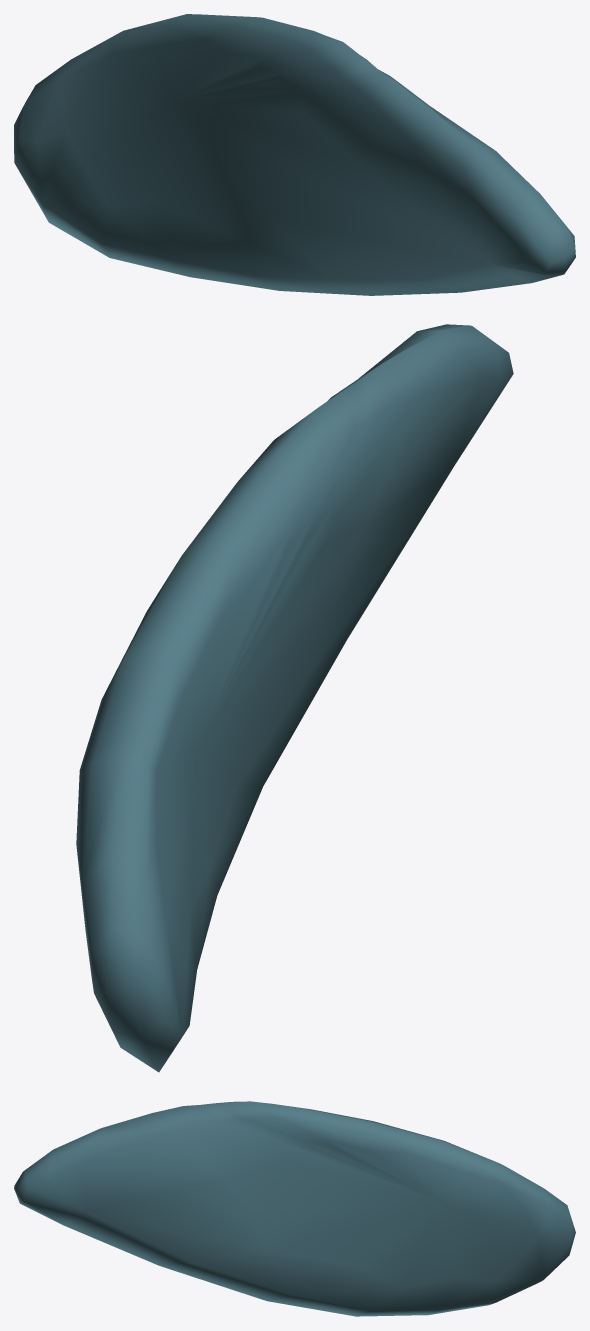
The model's file is Flexor_hallucis_brevis_medial_cuneiform_left.glb.
3 views of the same model, one above another, from view 1: azimuth 30°, elevation 25°; view 2: azimuth 150°, elevation 25°; view 3: azimuth 270°, elevation 25° (orthographic). The views are drawn at different scales.
Visible parts, largest first — view 1: Lateral_head_of_flexor_hallucis_brevis_on_medial_cuneiform.l; view 2: Lateral_head_of_flexor_hallucis_brevis_on_medial_cuneiform.l; view 3: Lateral_head_of_flexor_hallucis_brevis_on_medial_cuneiform.l.
Part boxes in pixels (x1,y1,x2,y2): Lateral_head_of_flexor_hallucis_brevis_on_medial_cuneiform.l: [14, 14, 575, 295]; Lateral_head_of_flexor_hallucis_brevis_on_medial_cuneiform.l: [76, 324, 513, 1072]; Lateral_head_of_flexor_hallucis_brevis_on_medial_cuneiform.l: [14, 1101, 575, 1316].
Bounding box in the file's own units: 0.0017 × 0.00296 × 0.0067.
